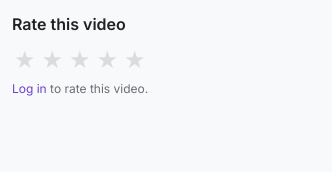
it: StarRating › shows error when submitRating fails
Click the 1st button "★" at (25, 60), box [12,46,38,74]
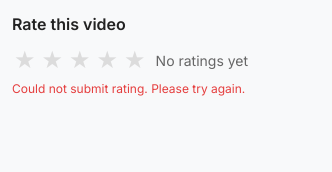
expect the message shows "Could not submit rating": met, box [12,81,245,96]
